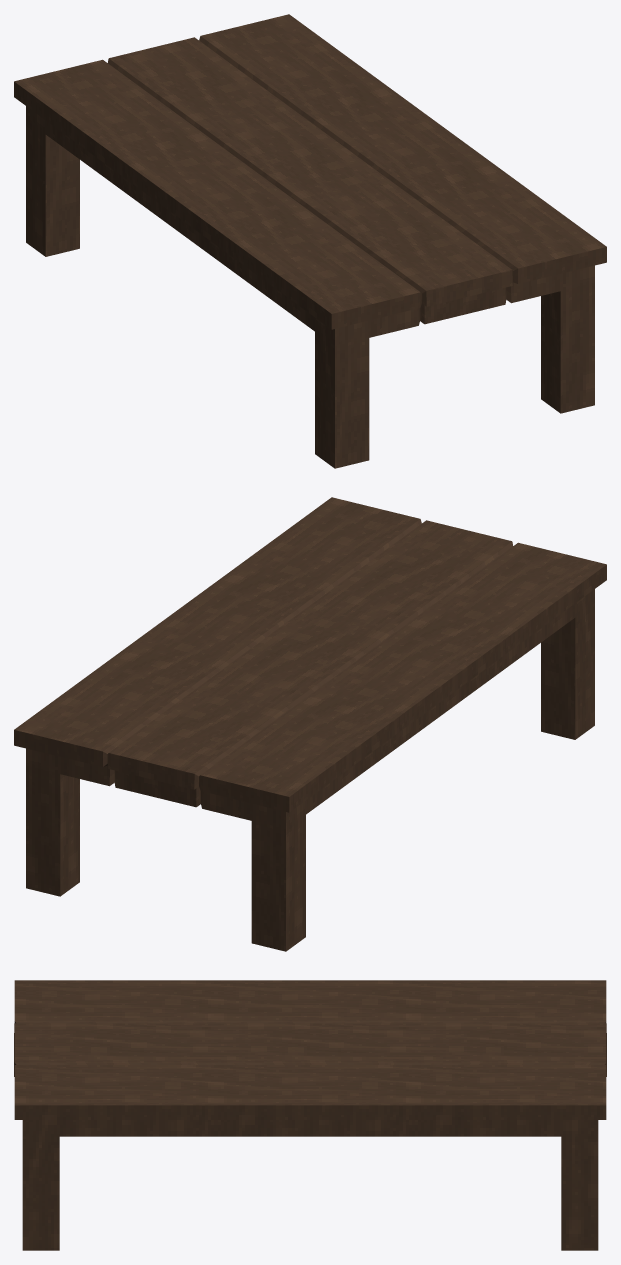
Rendered from diningtable.glb.
3 views of the same model, one above another, from view 1: azimuth 30°, elevation 25°; view 2: azimuth 150°, elevation 25°; view 3: azimuth 270°, elevation 25° (orthographic). The views are drawn at different scales.
Parts seen in each view (by area): view 1: diningtable; view 2: diningtable; view 3: diningtable.
Part boxes in pixels (x1,y1,x2,y2): diningtable: (14,14,606,468); diningtable: (14,497,606,951); diningtable: (14,980,606,1250).
Bounding box in the file's own units: 96 × 53.26 × 192.
Materials: 1 (1 with a texture image).
